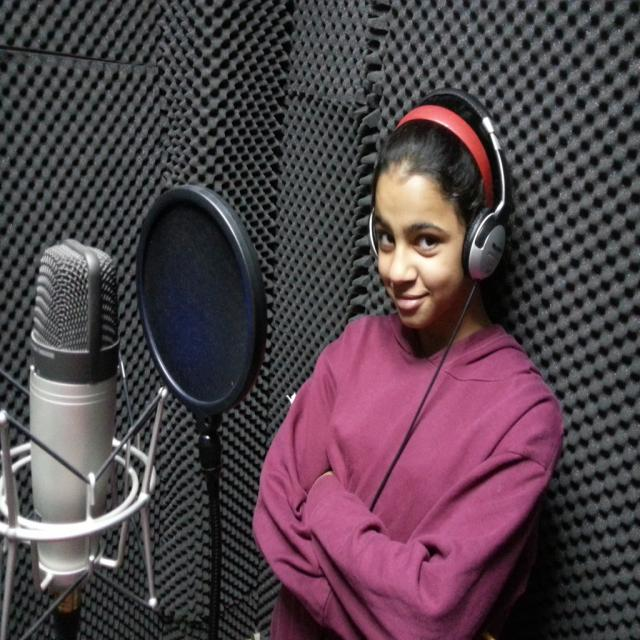no_helmet: (367, 145, 502, 234)
